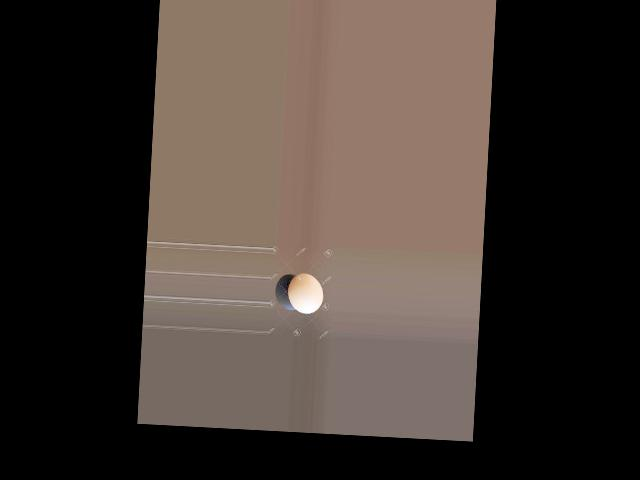egg: (286, 272, 324, 314)
